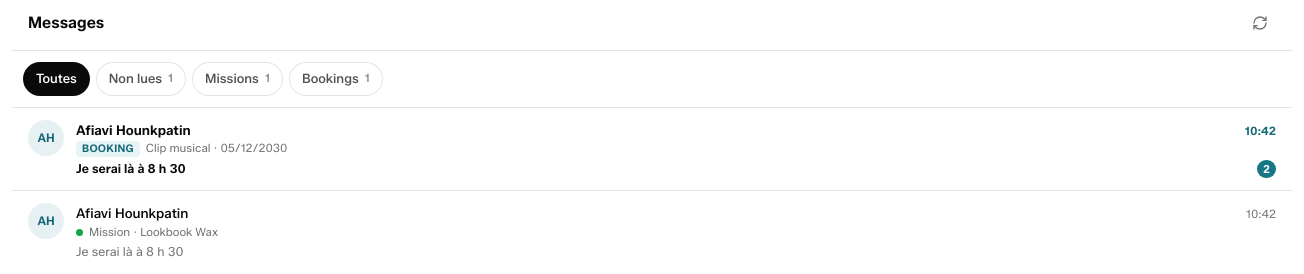
it: Liste — fils de booking › la pilule « Bookings » ne garde que les fils de booking
Click the button with test id "r-pill" at (336,79), box [290,63,382,95]
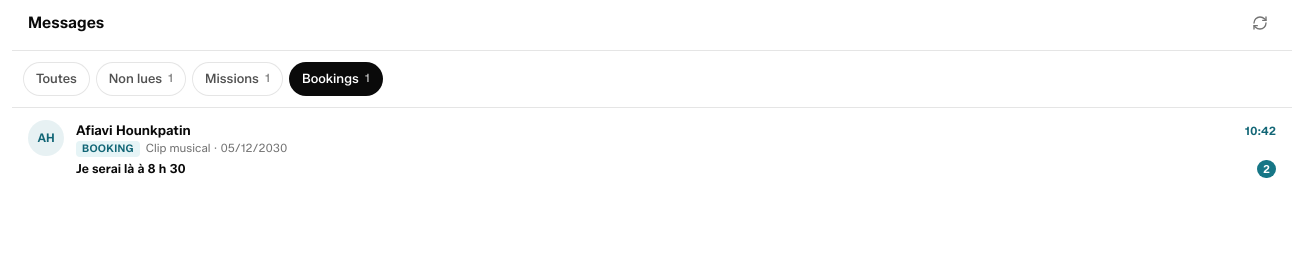
Expected: the number of buttons with test id "conversation-item" is 1, [12,108,1292,190]
